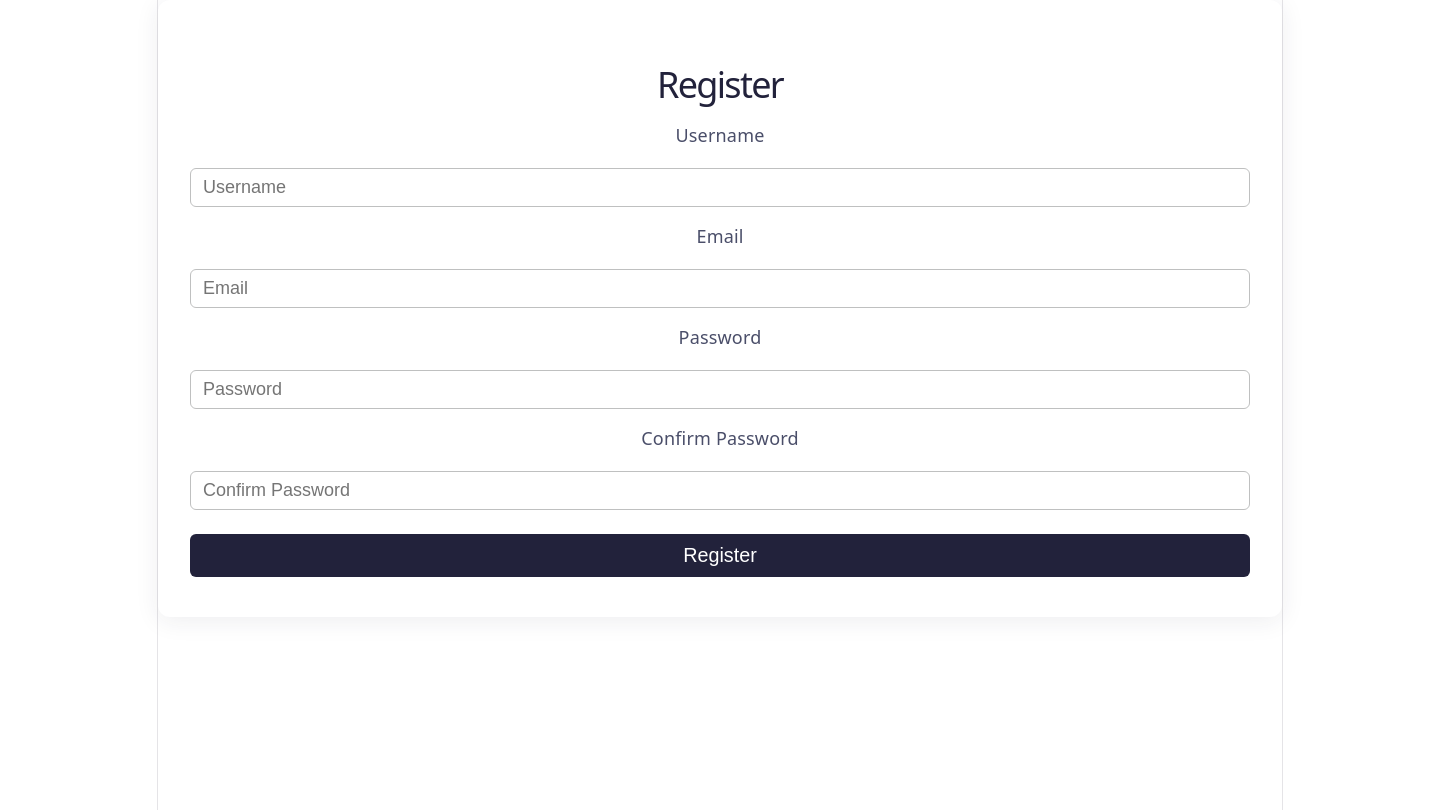
Test: Register Page › validates password match
The width and height of the screenshot is (1440, 810).
Type "newuser" into the field labelled "Username" at {"x": 720, "y": 188}, box [190,168,1250,207]
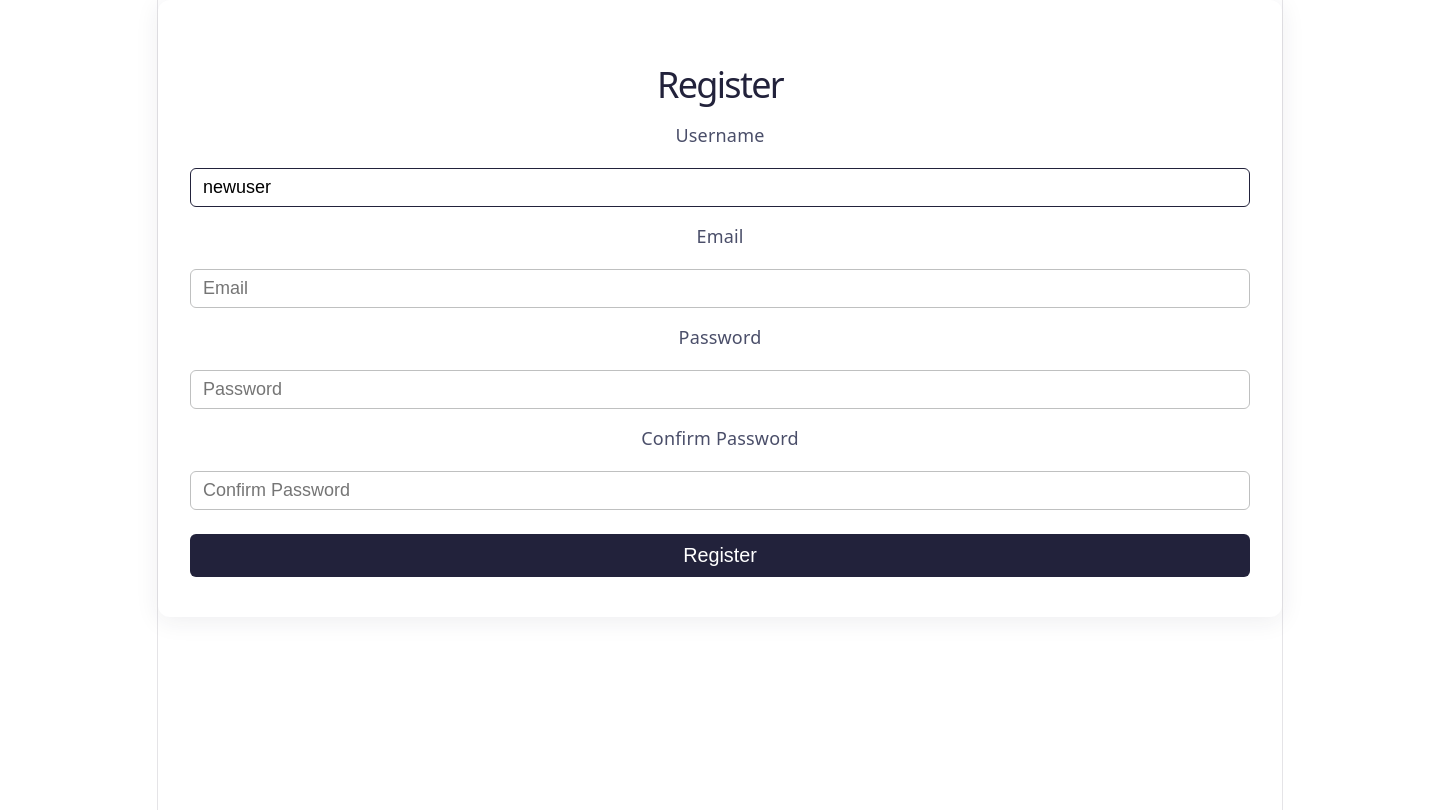
Type "new@user.com" into the field labelled "Email" at {"x": 720, "y": 289}, box [190,269,1250,308]
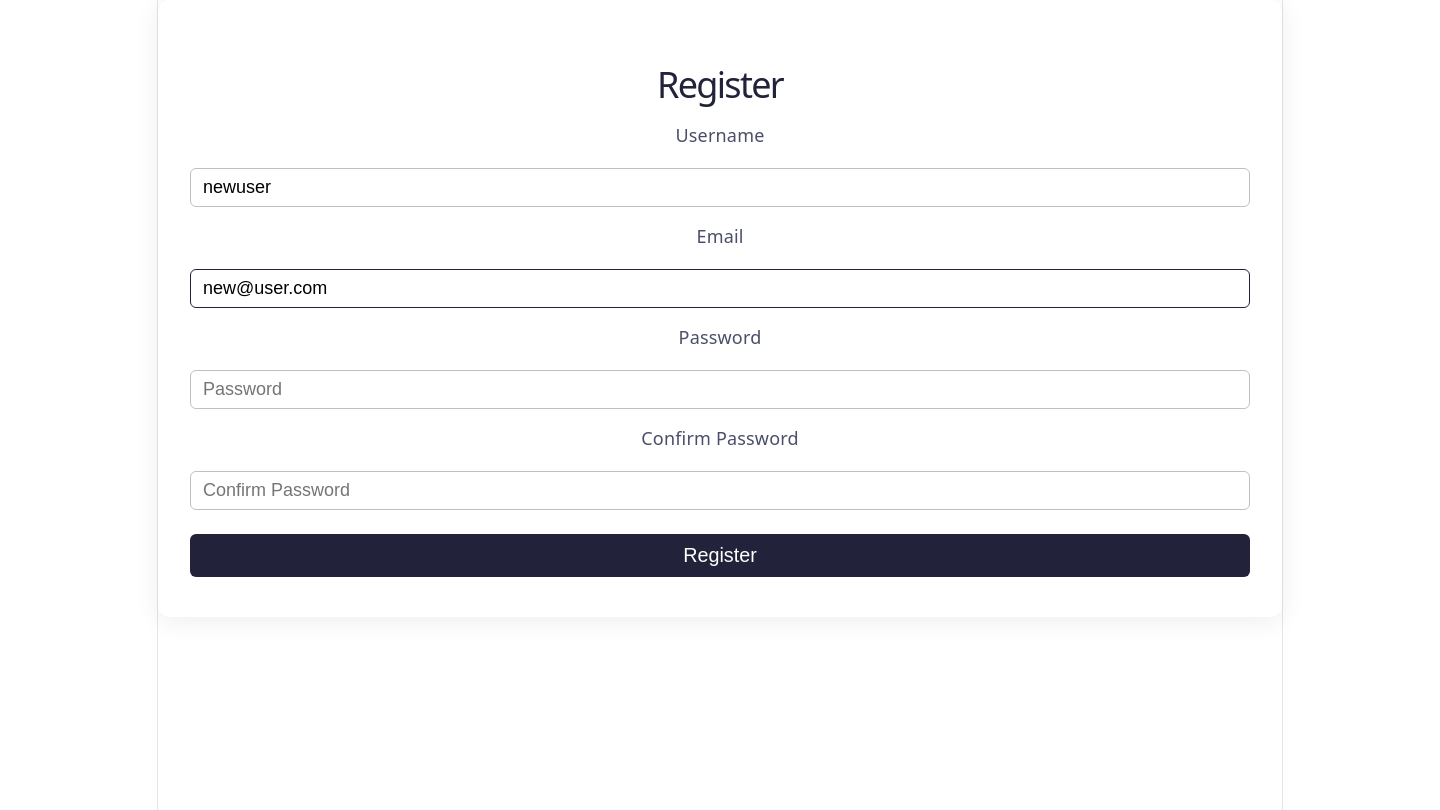
Type "pass1" into the password field labelled "Password" at {"x": 720, "y": 390}, box [190,370,1250,409]
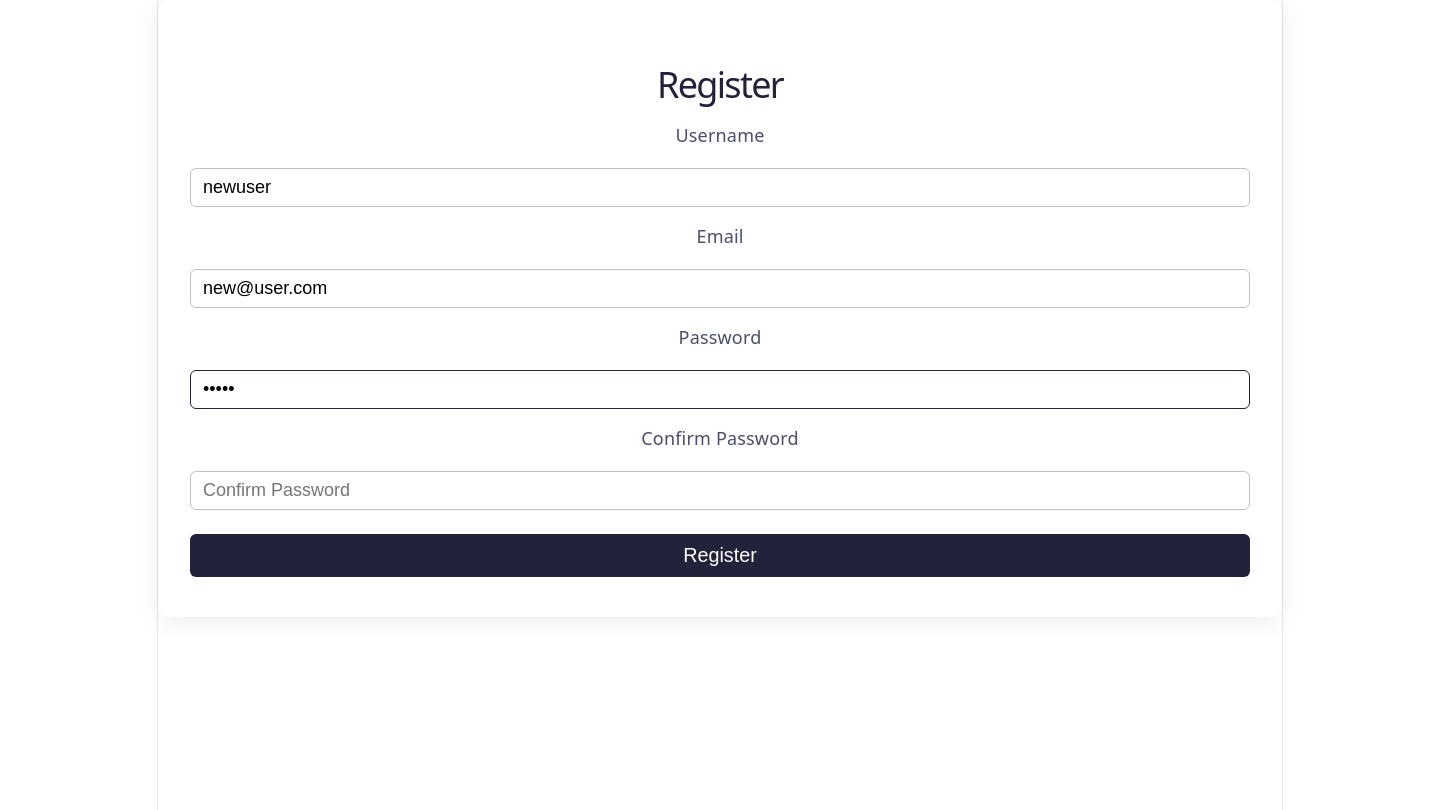
Type "pass2" into the password field labelled "Confirm Password" at {"x": 720, "y": 491}, box [190,472,1250,510]
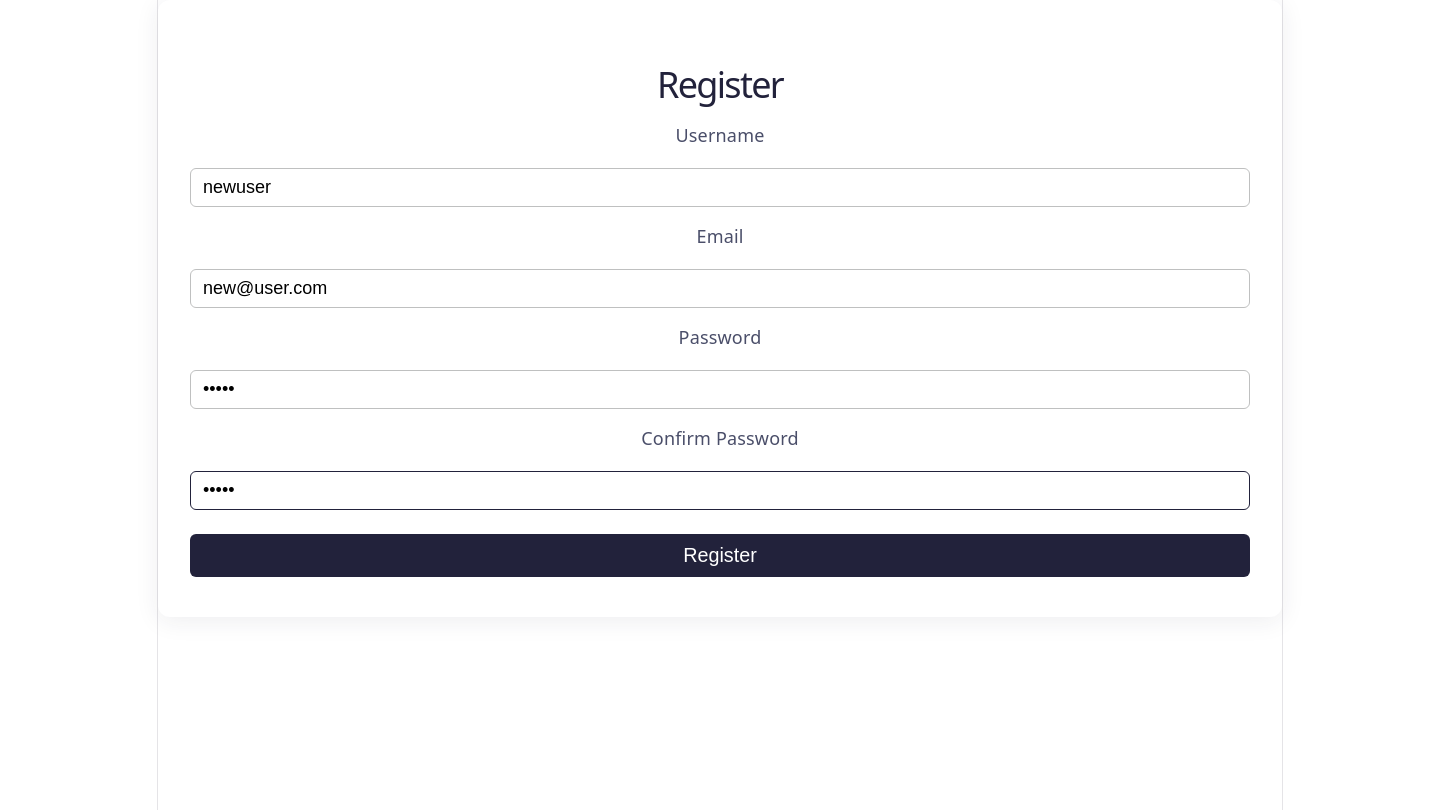
Click the button "Register" at {"x": 720, "y": 556}, box [190,534,1250,578]
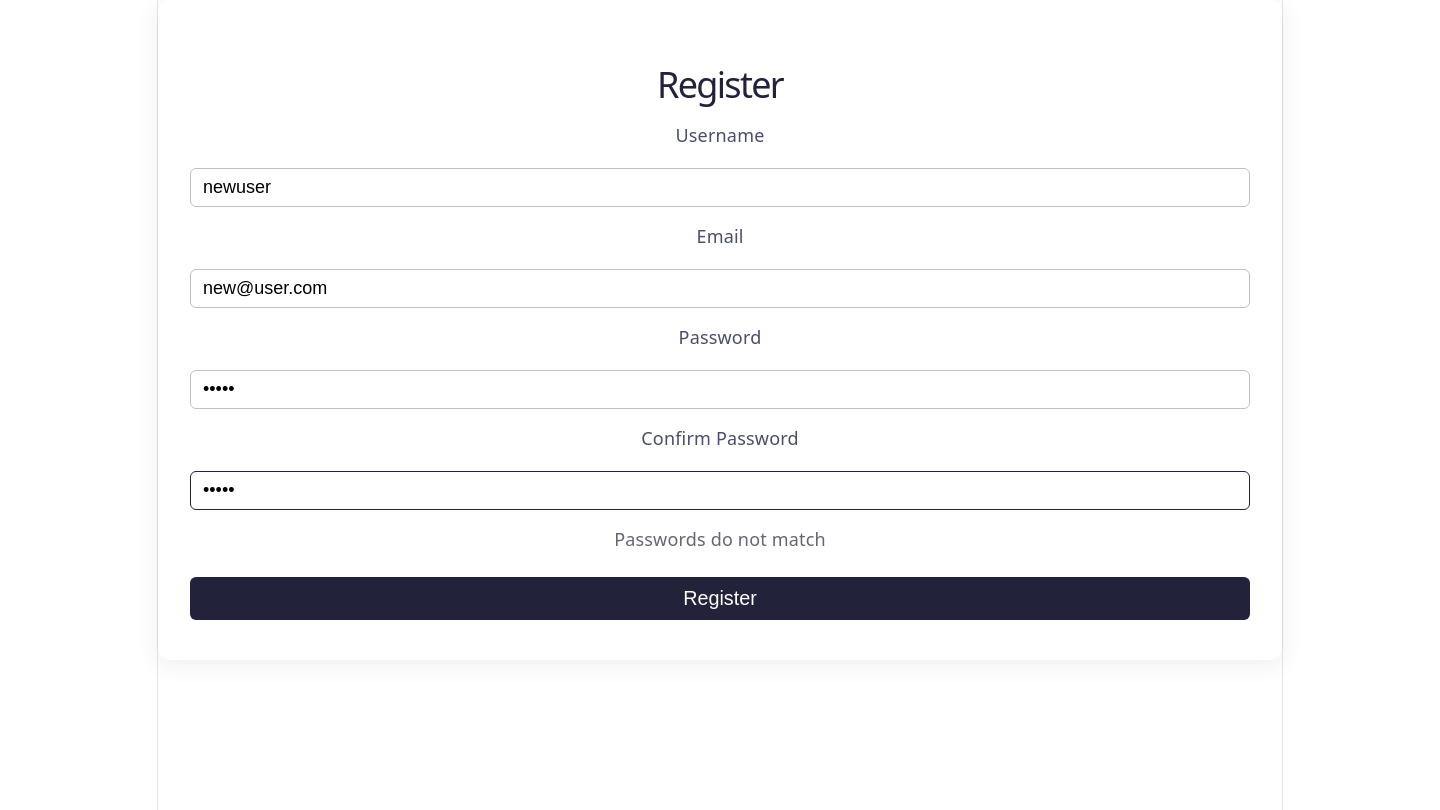
Now the text "Passwords do not match" is shown, box [614,528,826,552]
